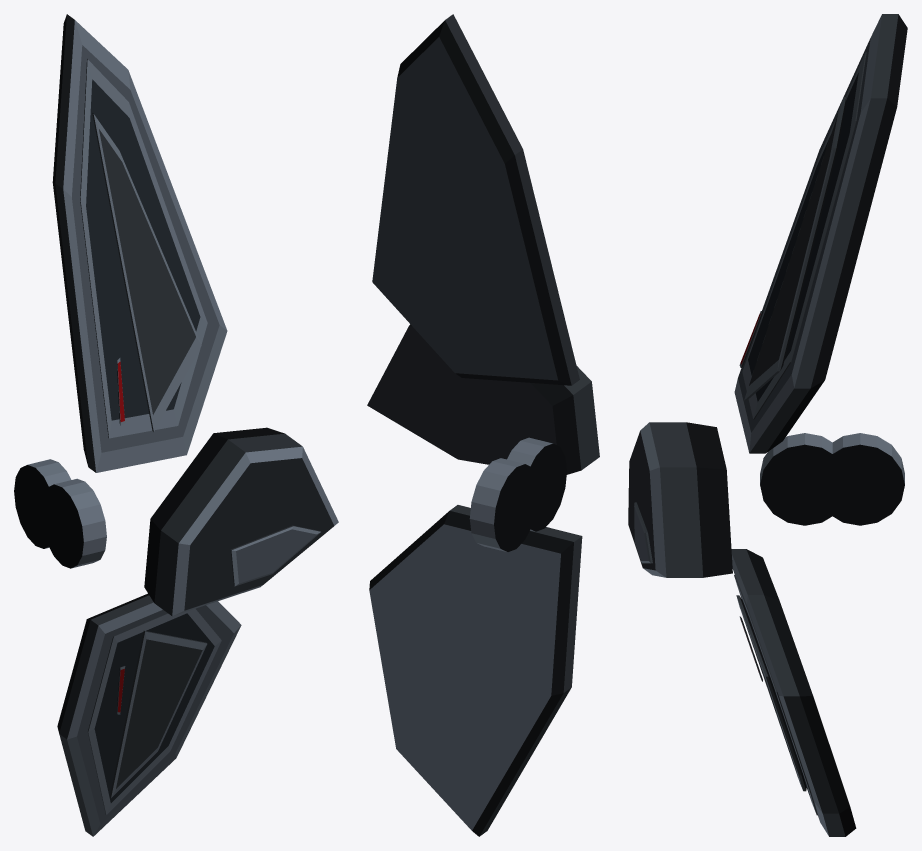
Rendered from VeilWingRight.obj.
3 views of the same model, side by side, from view 1: azimuth 30°, elevation 25°; view 2: azimuth 150°, elevation 25°; view 3: azimuth 270°, elevation 25° (orthographic). The views are drawn at different scales.
Visible parts, largest first — view 1: swept_blade, blade_inset, armoured_outrigger, load_bearing_ridge, wing_root_bearing, outrigger_cheek; view 2: swept_blade, armoured_outrigger, wing_root_bearing; view 3: swept_blade, armoured_outrigger, wing_root_bearing, load_bearing_ridge, blade_inset, outrigger_cheek.
Boxes of the visible parts, left/top/right/bottom form: swept_blade: left=52, top=14, right=241, bottom=836; blade_inset: left=80, top=59, right=221, bottom=815; armoured_outrigger: left=144, top=427, right=338, bottom=616; load_bearing_ridge: left=92, top=113, right=207, bottom=797; wing_root_bearing: left=14, top=459, right=106, bottom=568; outrigger_cheek: left=230, top=525, right=320, bottom=586; swept_blade: left=369, top=14, right=582, bottom=836; armoured_outrigger: left=367, top=324, right=599, bottom=474; wing_root_bearing: left=469, top=437, right=566, bottom=552; swept_blade: left=731, top=14, right=907, bottom=836; armoured_outrigger: left=628, top=422, right=732, bottom=577; wing_root_bearing: left=760, top=433, right=904, bottom=525; load_bearing_ridge: left=736, top=97, right=846, bottom=791; blade_inset: left=734, top=52, right=866, bottom=815; outrigger_cheek: left=634, top=502, right=652, bottom=563.
Size of the model in its own units: 1.24 by 4.28 by 1.31.
